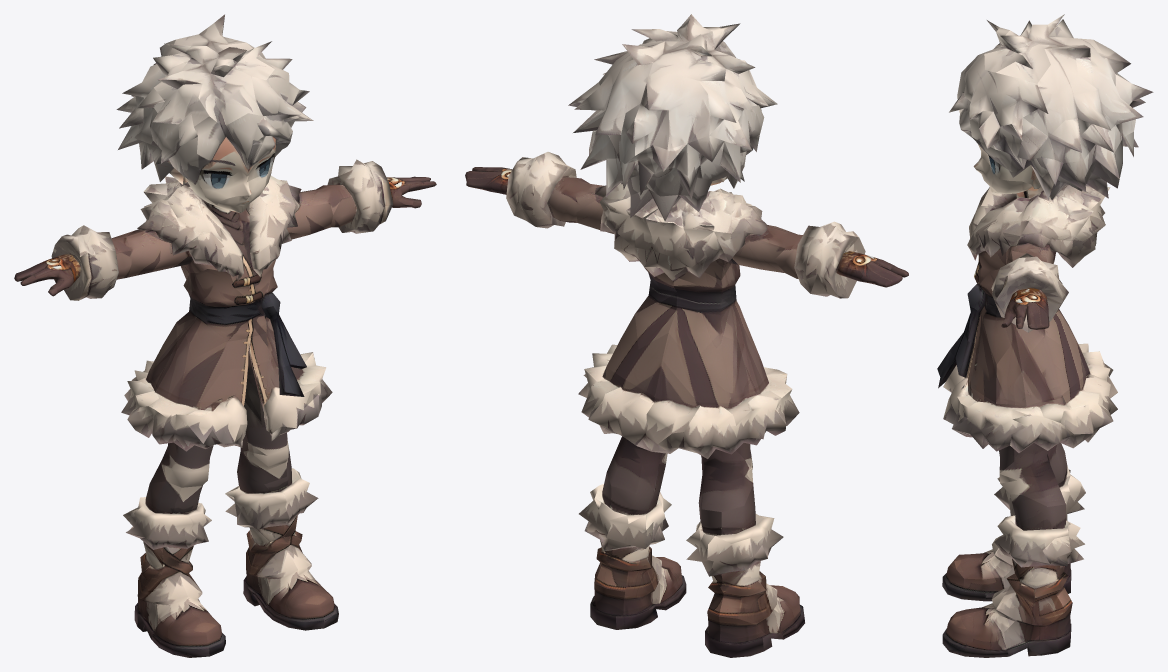
Rendered from wolf_meshy.glb.
3 views of the same model, side by side, from view 1: azimuth 30°, elevation 25°; view 2: azimuth 150°, elevation 25°; view 3: azimuth 270°, elevation 25° (orthographic). The views are drawn at different scales.
Bounding box in the file's own units: 1.52 × 2 × 0.672.
Materials: 1 (1 with a texture image).
